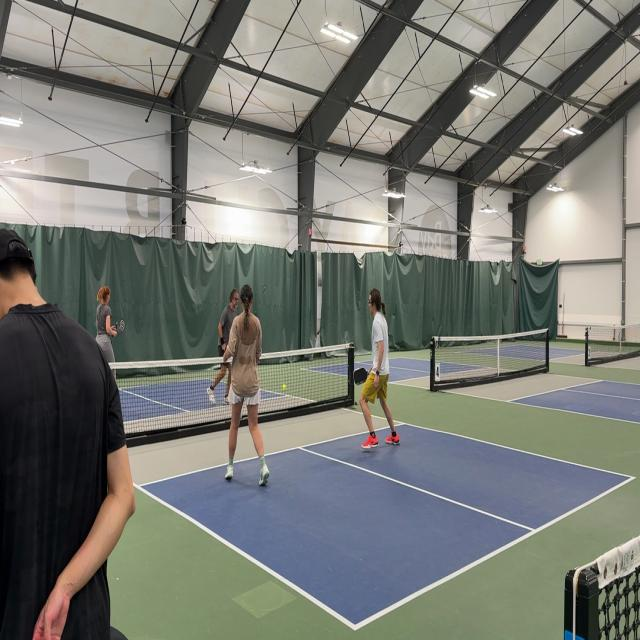ball: (282, 383, 287, 393)
